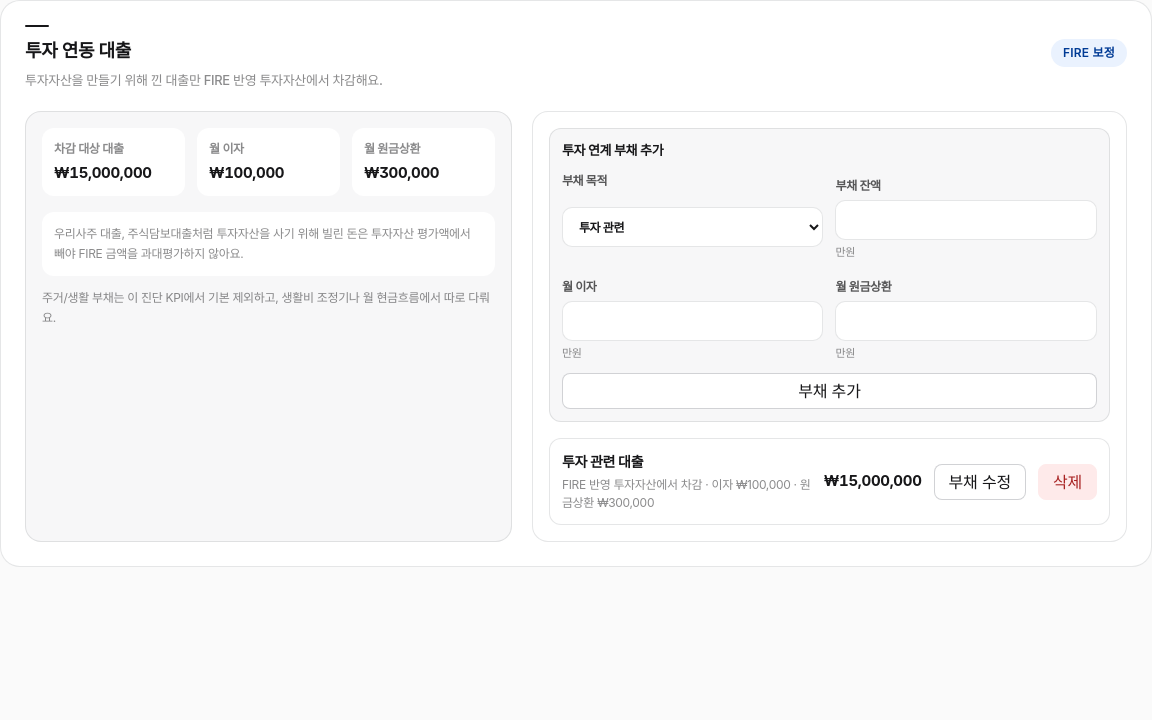
Test: LiabilityPanel › lets a user edit liability balance and monthly repayment flow in the alpha panel
The image size is (1152, 720).
Click the button "부채 수정" at (980, 482), box x1=934 y1=464 x2=1026 y2=500
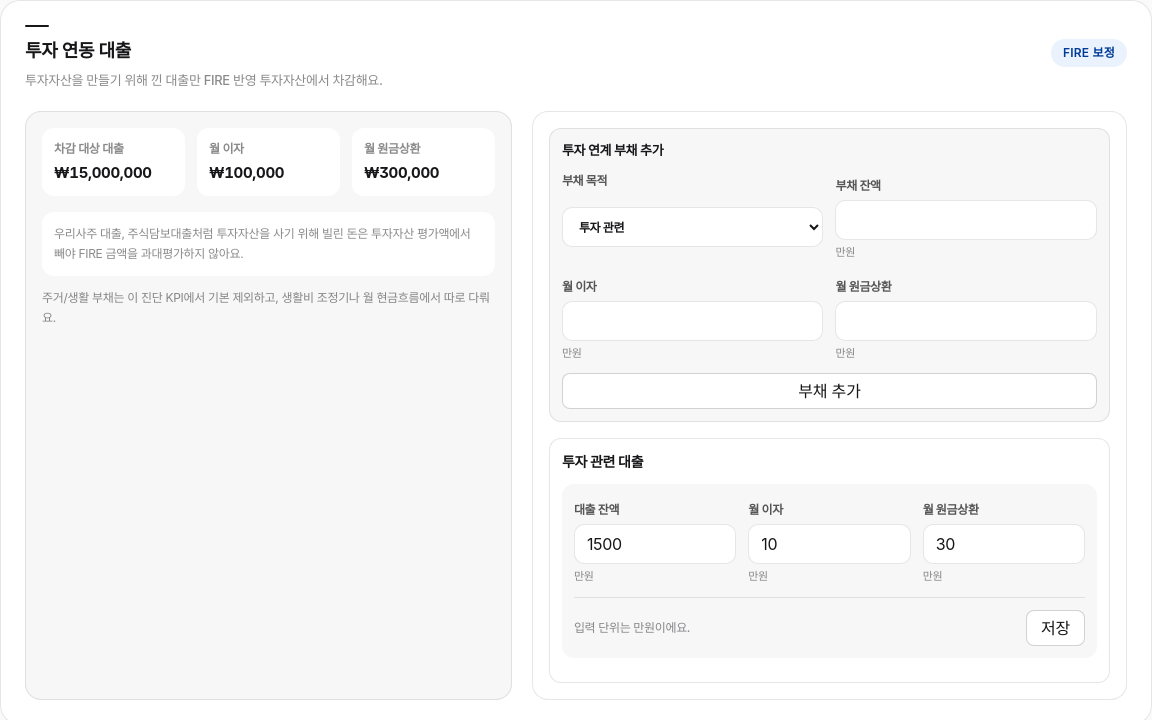
Replace the text in the field named "투자 관련 대출 잔액" with "1200" at (655, 544), box x1=574 y1=524 x2=736 y2=564
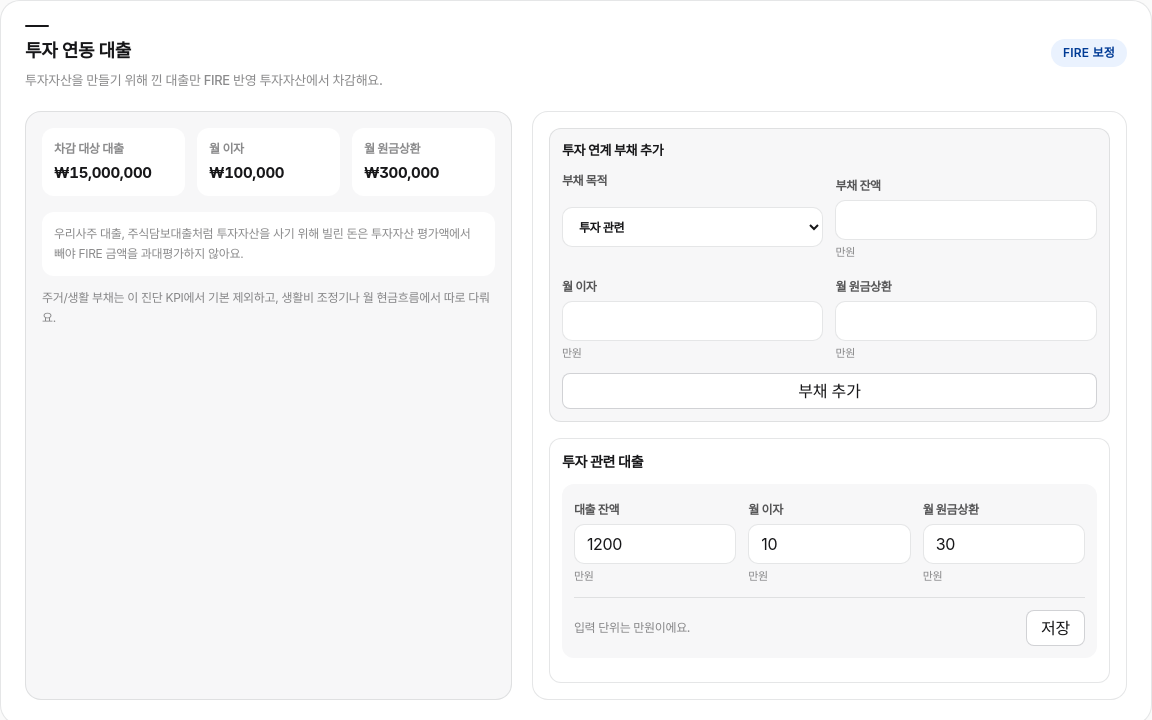
Replace the text in the field named "투자 관련 대출 월 이자" with "8" at (830, 544), box x1=748 y1=524 x2=911 y2=564
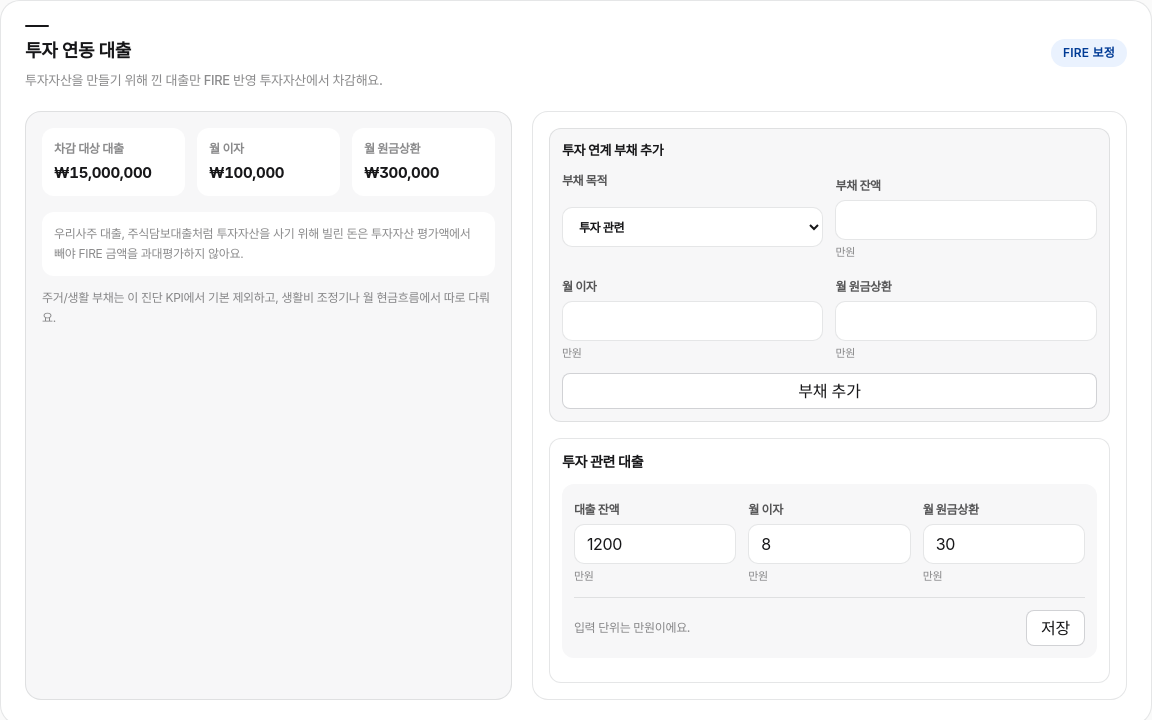
Replace the text in the field named "투자 관련 대출 월 원금상환" with "25" at (1004, 544), box x1=923 y1=524 x2=1085 y2=564
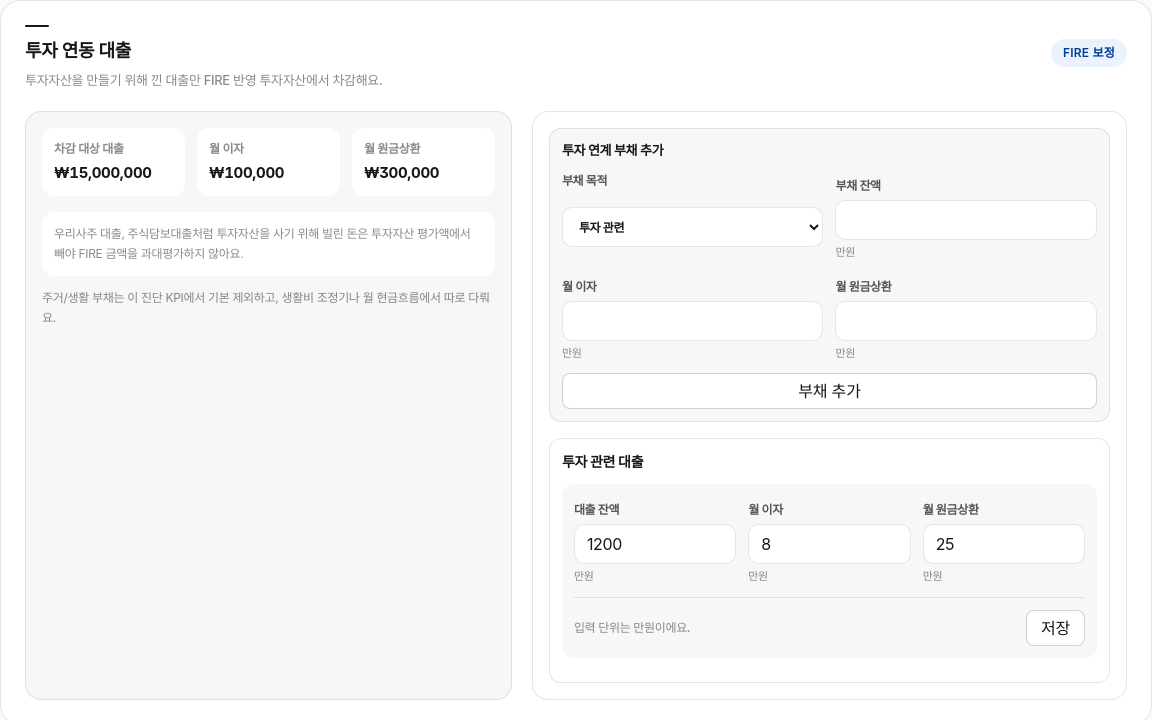
Click the button "저장" at (1055, 628), box x1=1026 y1=610 x2=1085 y2=646
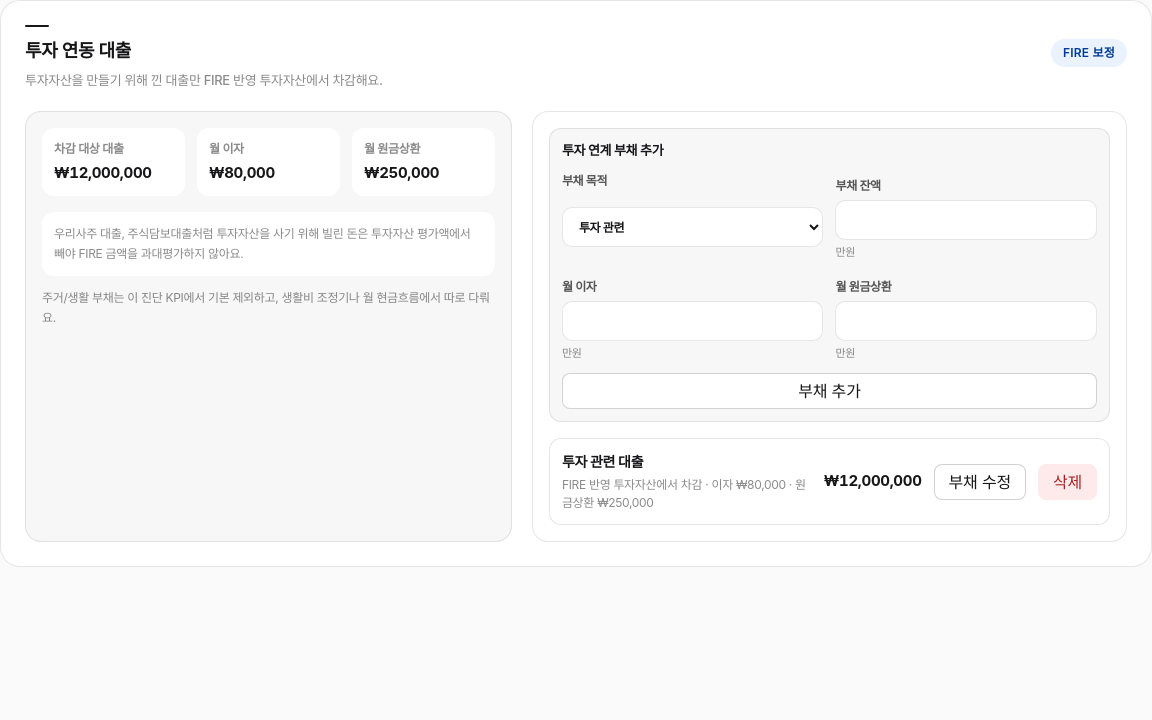
Result: the text "₩12,000,000" below "차감 대상 대출" is shown at x1=54 y1=162 x2=152 y2=182
Result: the text "₩80,000" is shown at x1=209 y1=162 x2=275 y2=182
Result: the text "₩250,000" is shown at x1=364 y1=162 x2=439 y2=182
